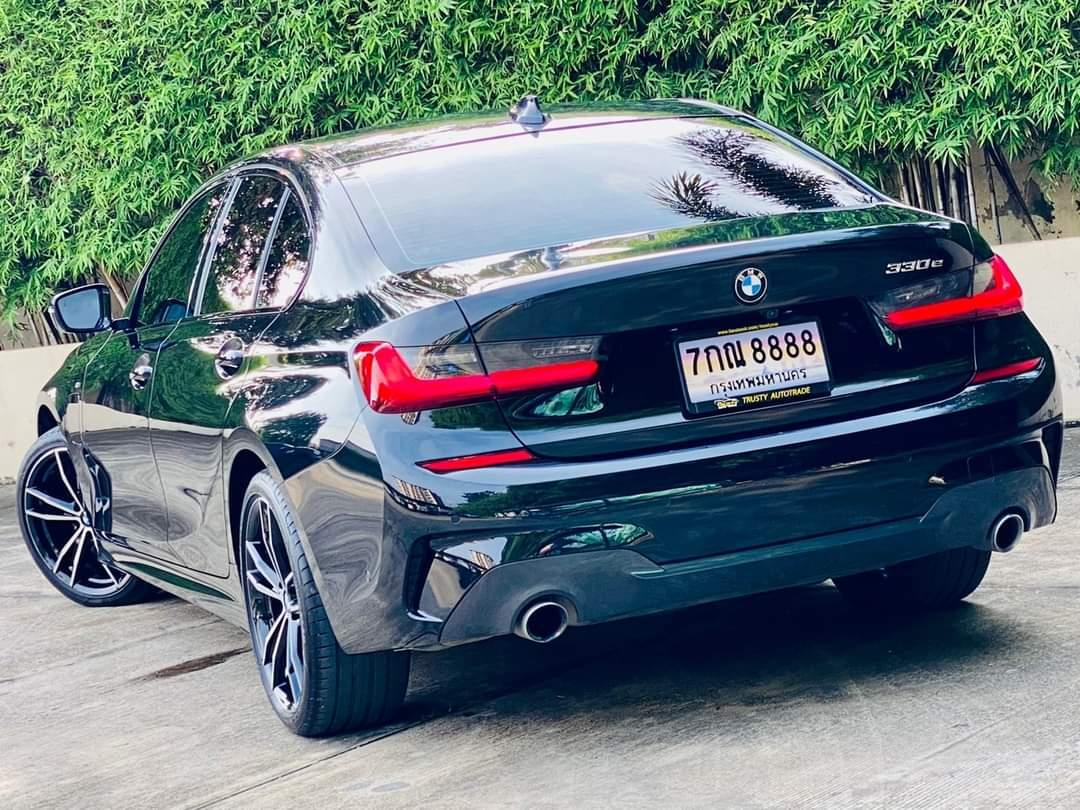license-plate: (670, 316, 833, 419)
